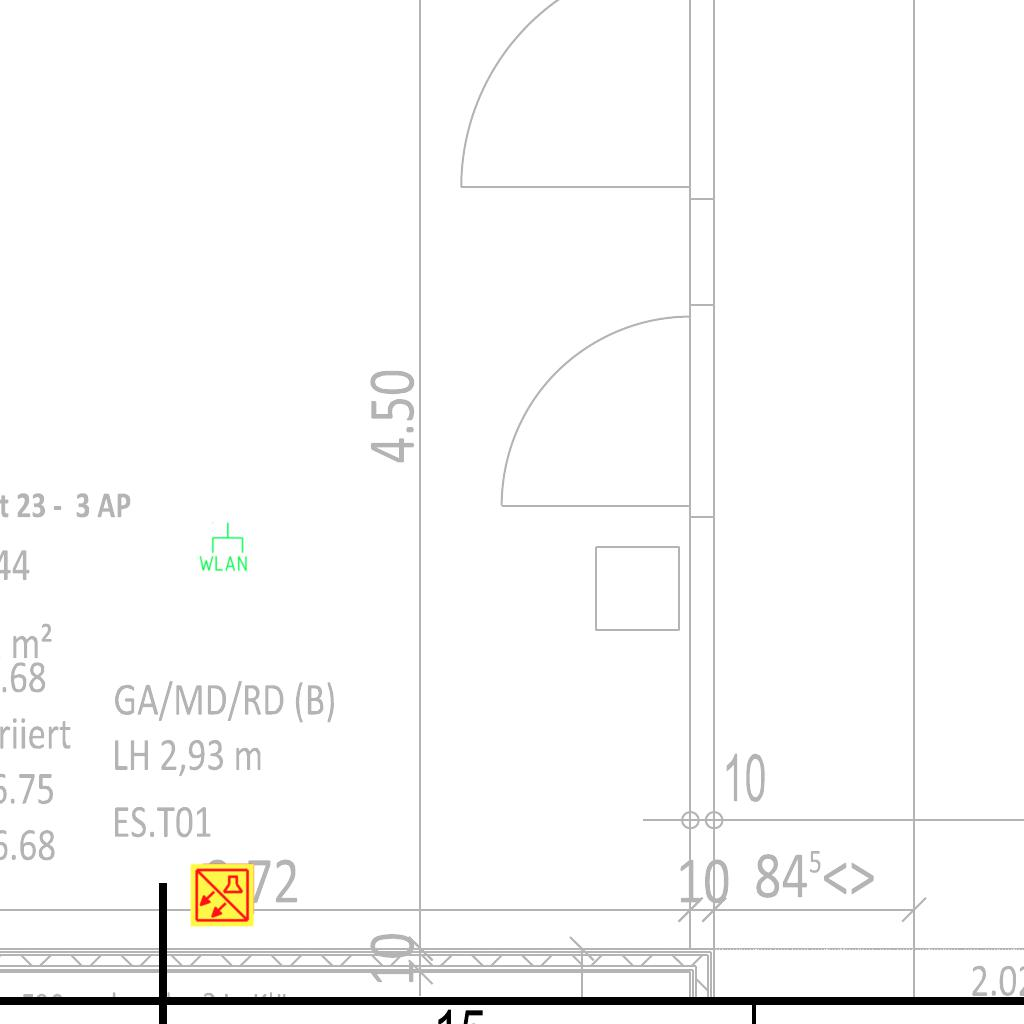OKW_Multisensormelder_(Kombination_optischer_Rauch-Kahlenmonoxid_Waerme-Melder): (189, 862, 255, 928)
WLAN: (197, 521, 249, 573)
